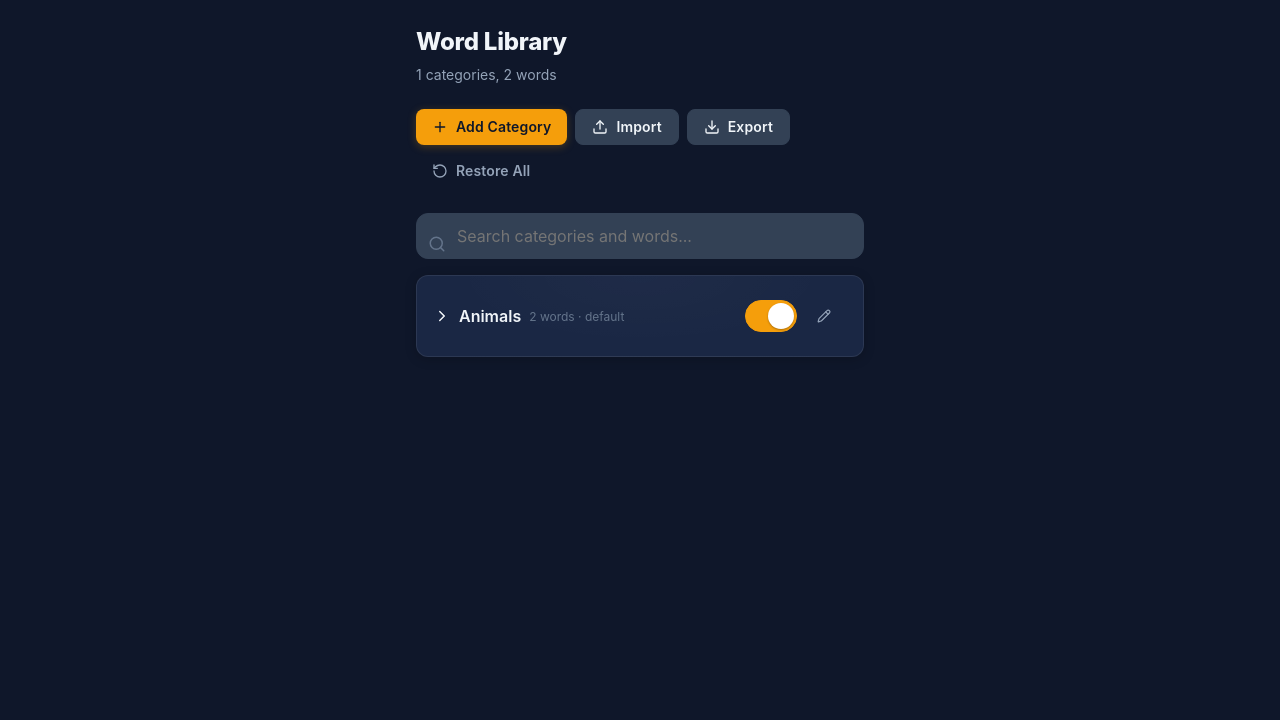
WordLibraryScreen › edits an existing word
Click the button with aria-label "Expand Animals" at (577, 316), box [433, 306, 721, 326]
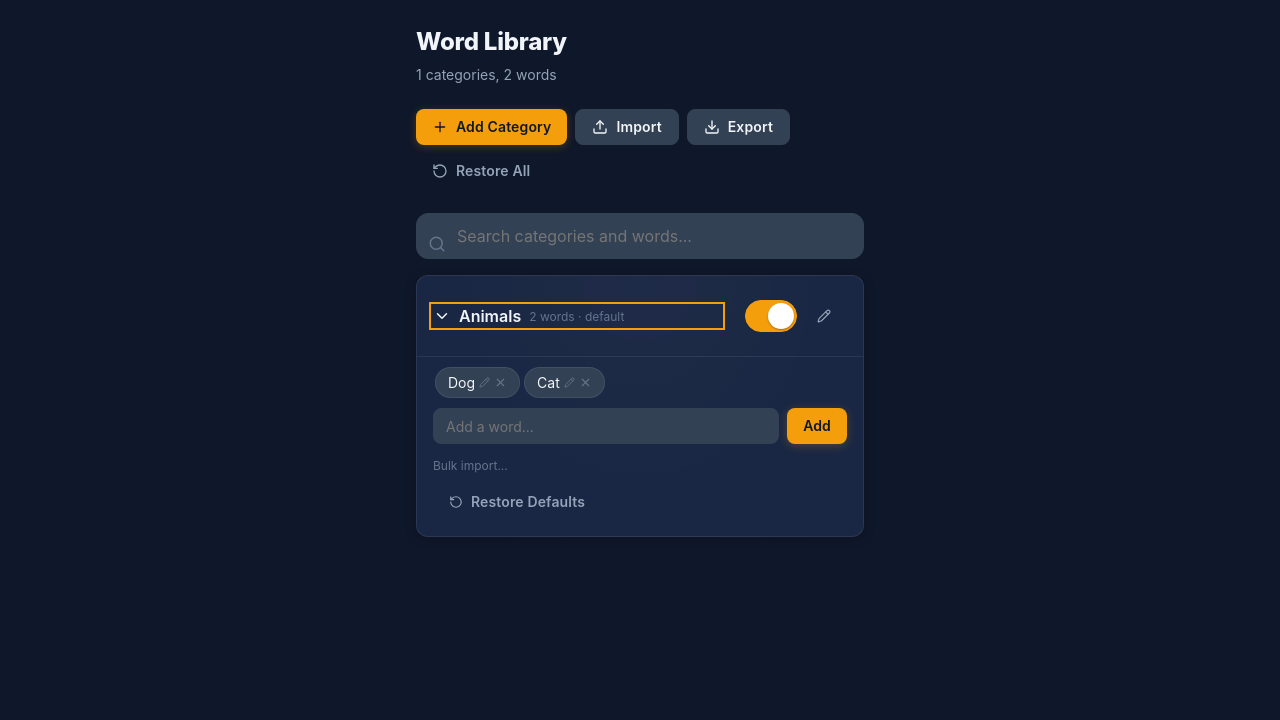
Click the button named "Edit Dog" at (485, 382), box [479, 377, 490, 388]
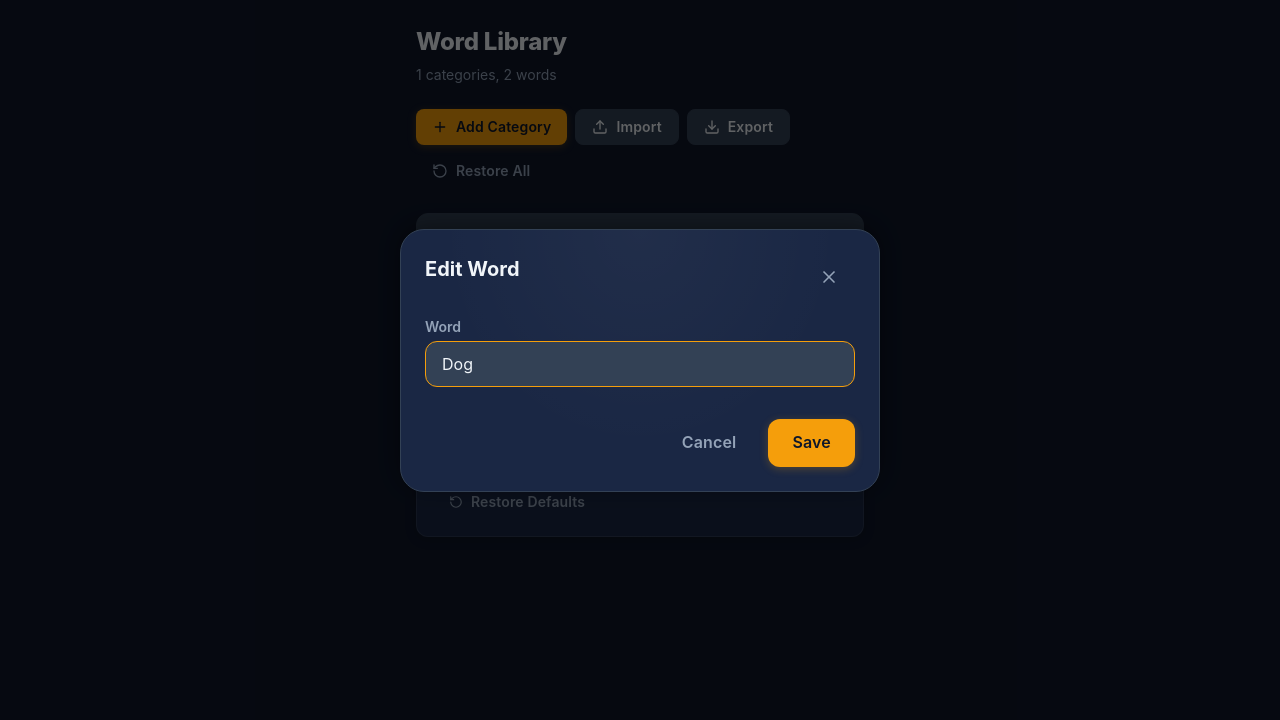
Replace the text in the field labelled "Word" with "Duck" at (640, 364), box [425, 340, 855, 386]
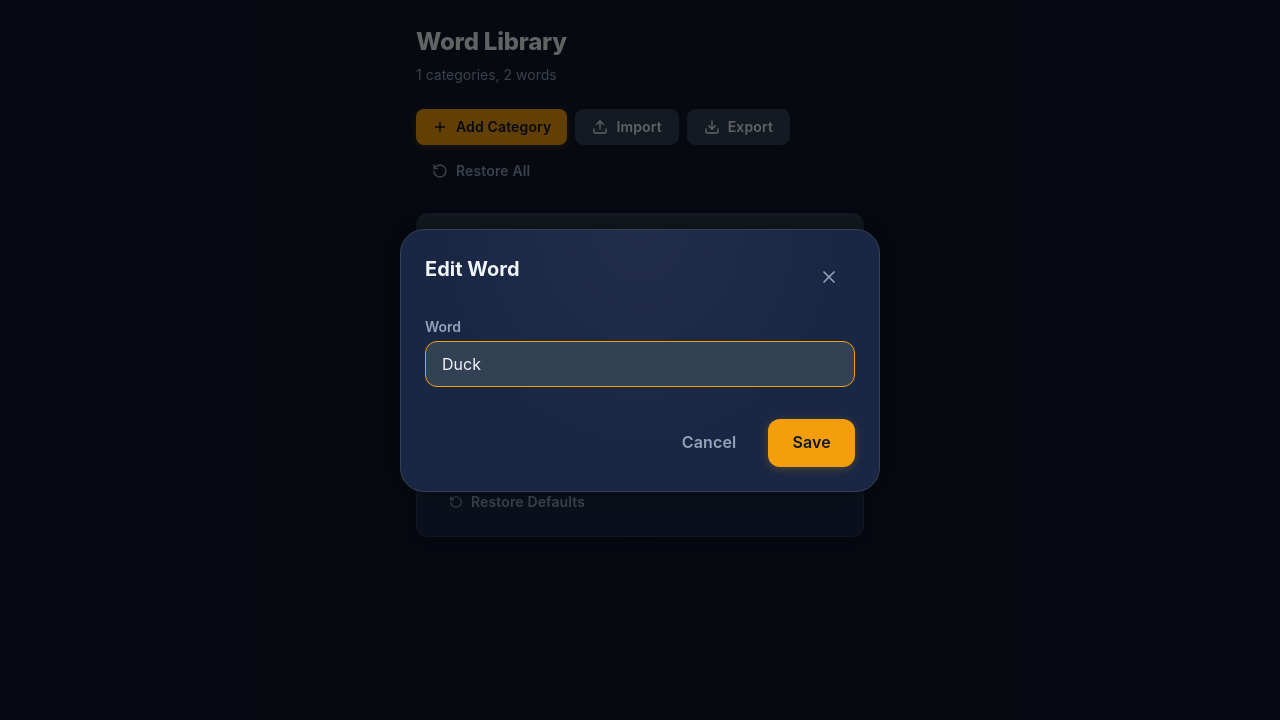
Click the button "Save" at (812, 442), box [768, 418, 855, 466]
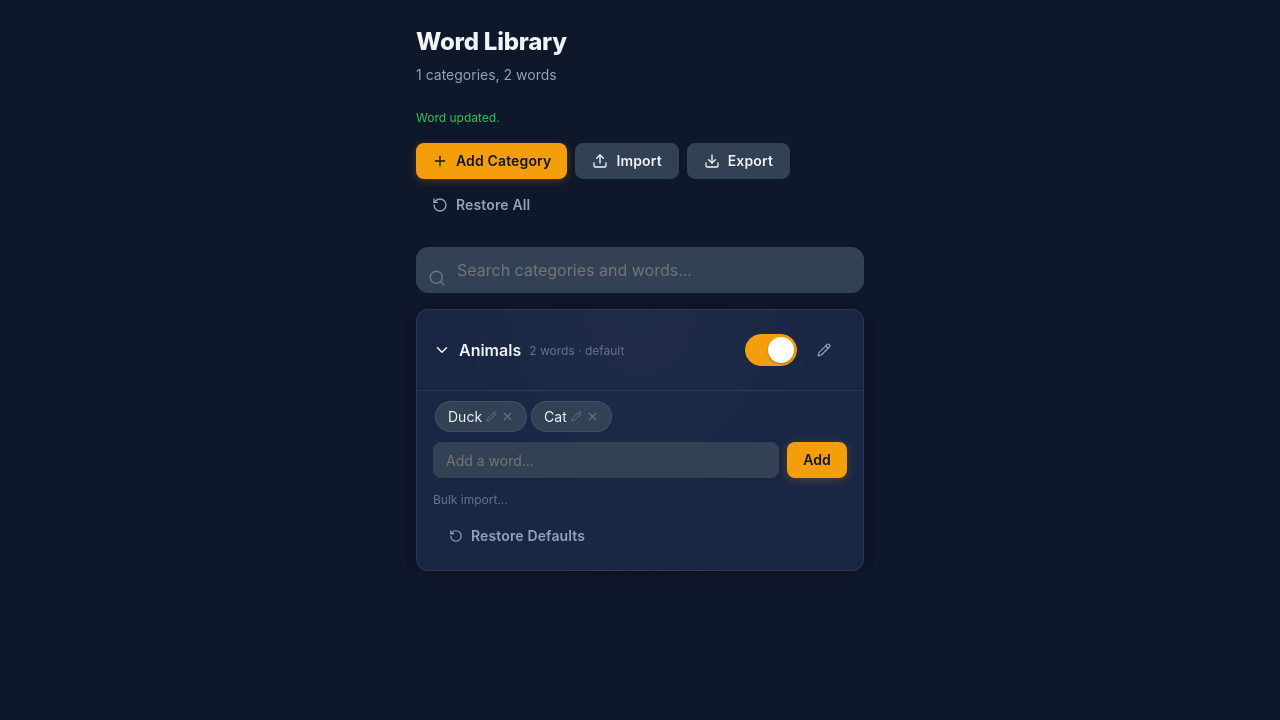
Check: the text "Duck" is shown, box [435, 401, 527, 432]
Check: the text "Dog" is gone
